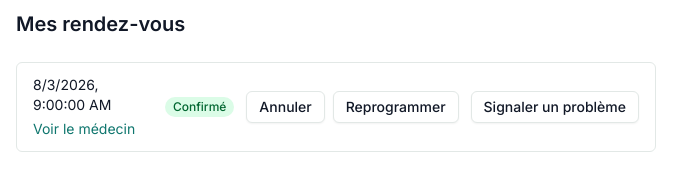
MyAppointmentsPage › cancels a CONFIRMED appointment and updates its status in place
Click the button "Annuler": click(286, 107) [246,91,325,123]
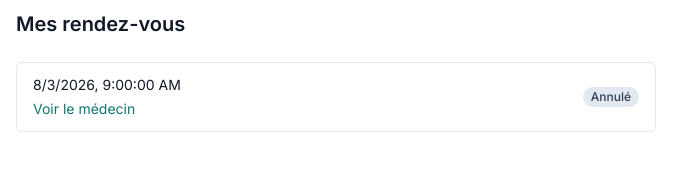
Result: the text "Annulé" is shown at [583,87,639,107]
Result: the button "Annuler" is gone
